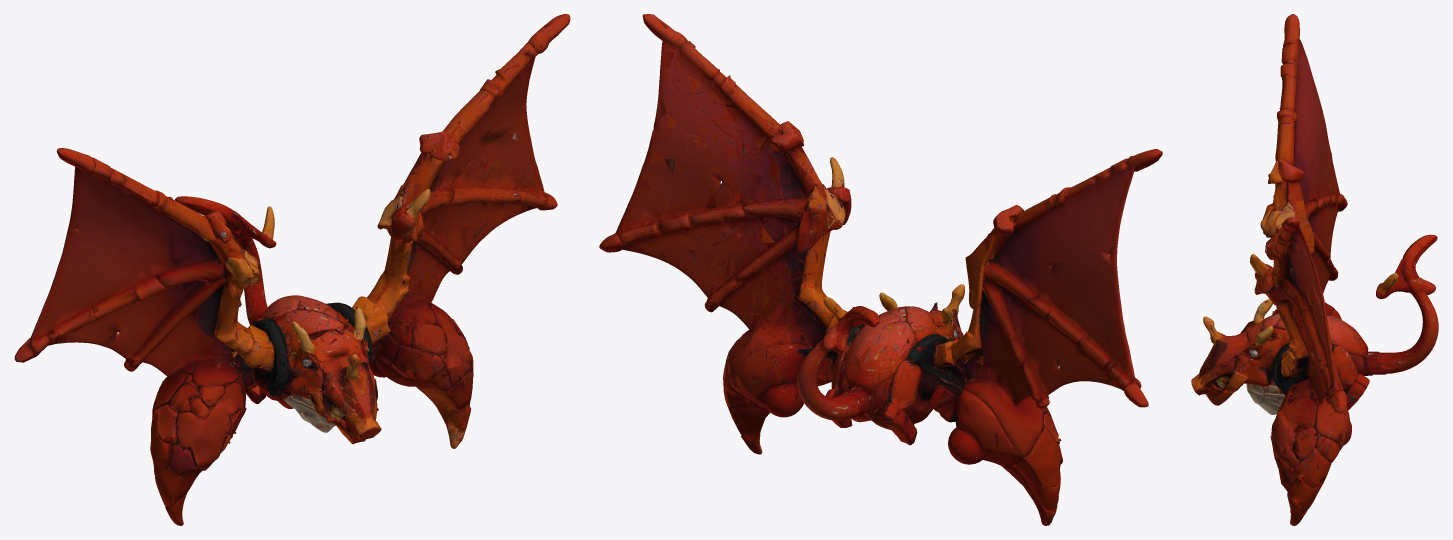
Rendered from dragon_f.glb.
The picture shows the model from 3 angles, left to right: view 1: azimuth 30°, elevation 25°; view 2: azimuth 150°, elevation 25°; view 3: azimuth 270°, elevation 25°; orthographic projection. The views are drawn at different scales.
Parts seen in each view (by area): view 1: tripo_node_3f75176c-3f75-4f4b-a70c-c8b200b732d2; view 2: tripo_node_3f75176c-3f75-4f4b-a70c-c8b200b732d2; view 3: tripo_node_3f75176c-3f75-4f4b-a70c-c8b200b732d2.
Boxes of the visible parts, box(x1,y1,x2,y2) form: tripo_node_3f75176c-3f75-4f4b-a70c-c8b200b732d2: box(14, 14, 570, 525); tripo_node_3f75176c-3f75-4f4b-a70c-c8b200b732d2: box(599, 14, 1162, 525); tripo_node_3f75176c-3f75-4f4b-a70c-c8b200b732d2: box(1191, 14, 1438, 525).
Size of the model in its own units: 0.9786 by 0.7128 by 0.4457.
1 material, 1 textured.
